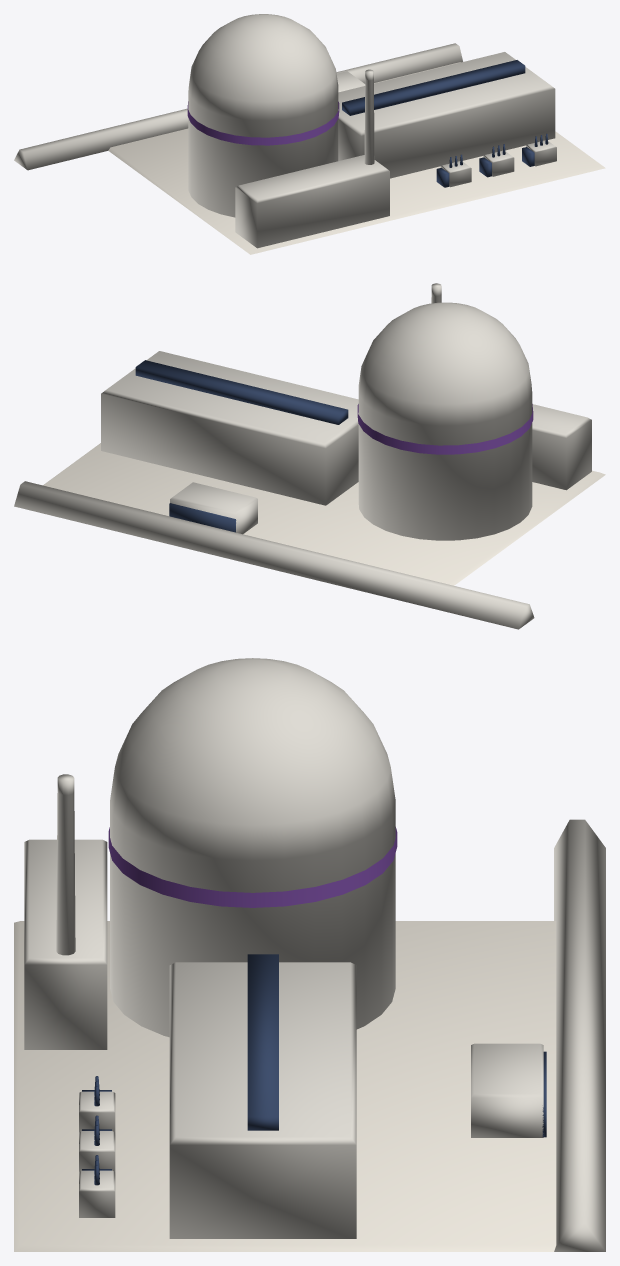
The model's file is nuclear.glb.
The picture shows the model from 3 angles, top to bottom: view 1: azimuth 30°, elevation 25°; view 2: azimuth 150°, elevation 25°; view 3: azimuth 270°, elevation 25°; orthographic projection. The views are drawn at different scales.
Visible parts, largest first — view 1: nuclear; view 2: nuclear; view 3: nuclear.
Boxes of the visible parts, bbox=[...] form: nuclear: bbox=[14, 14, 605, 254]; nuclear: bbox=[14, 283, 605, 629]; nuclear: bbox=[14, 658, 605, 1251].
Size of the model in its own units: 184 by 68.4 by 114.
